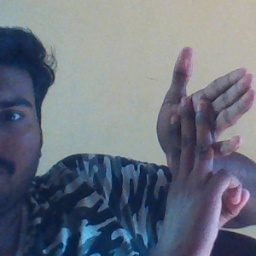M: (150, 43, 256, 221)
